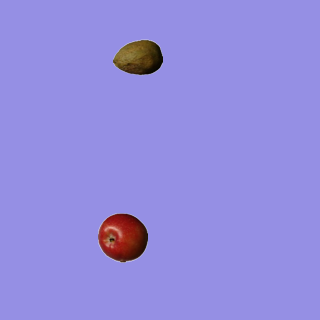Apple Braeburn: (97, 212, 147, 262)
Papaya: (112, 32, 162, 82)
